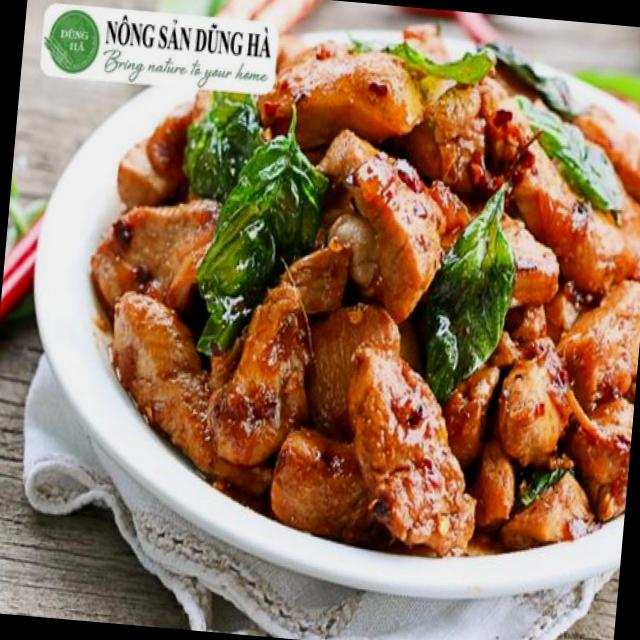ga kho: (90, 29, 640, 556)
